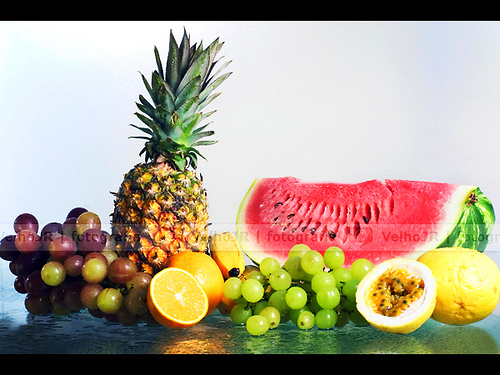pineapple: (107, 26, 234, 277)
